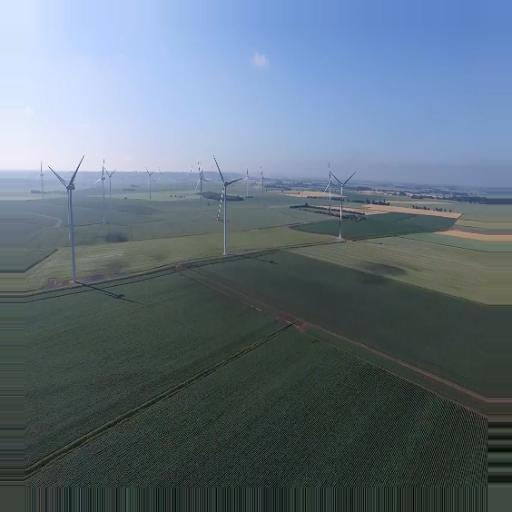wind turbine: (48, 154, 86, 286), (208, 154, 241, 251), (329, 167, 360, 239)
